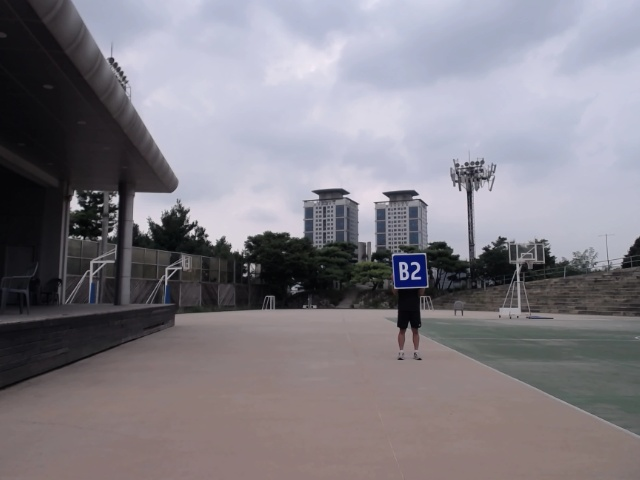delivery_b2: (391, 252, 430, 289)
